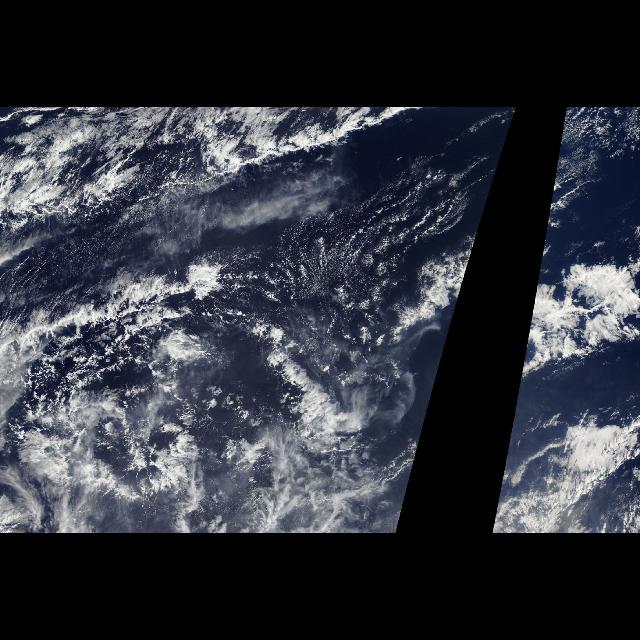Fish: (8, 270, 376, 446), (1, 110, 446, 234)
Gravel: (25, 304, 183, 418)
Sugar: (266, 156, 482, 306)
